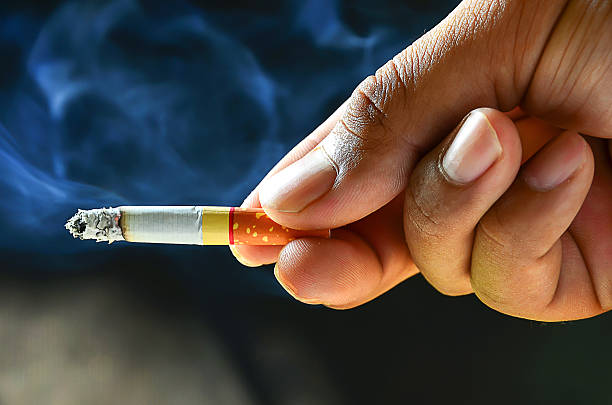cigarette: (65, 203, 330, 245)
